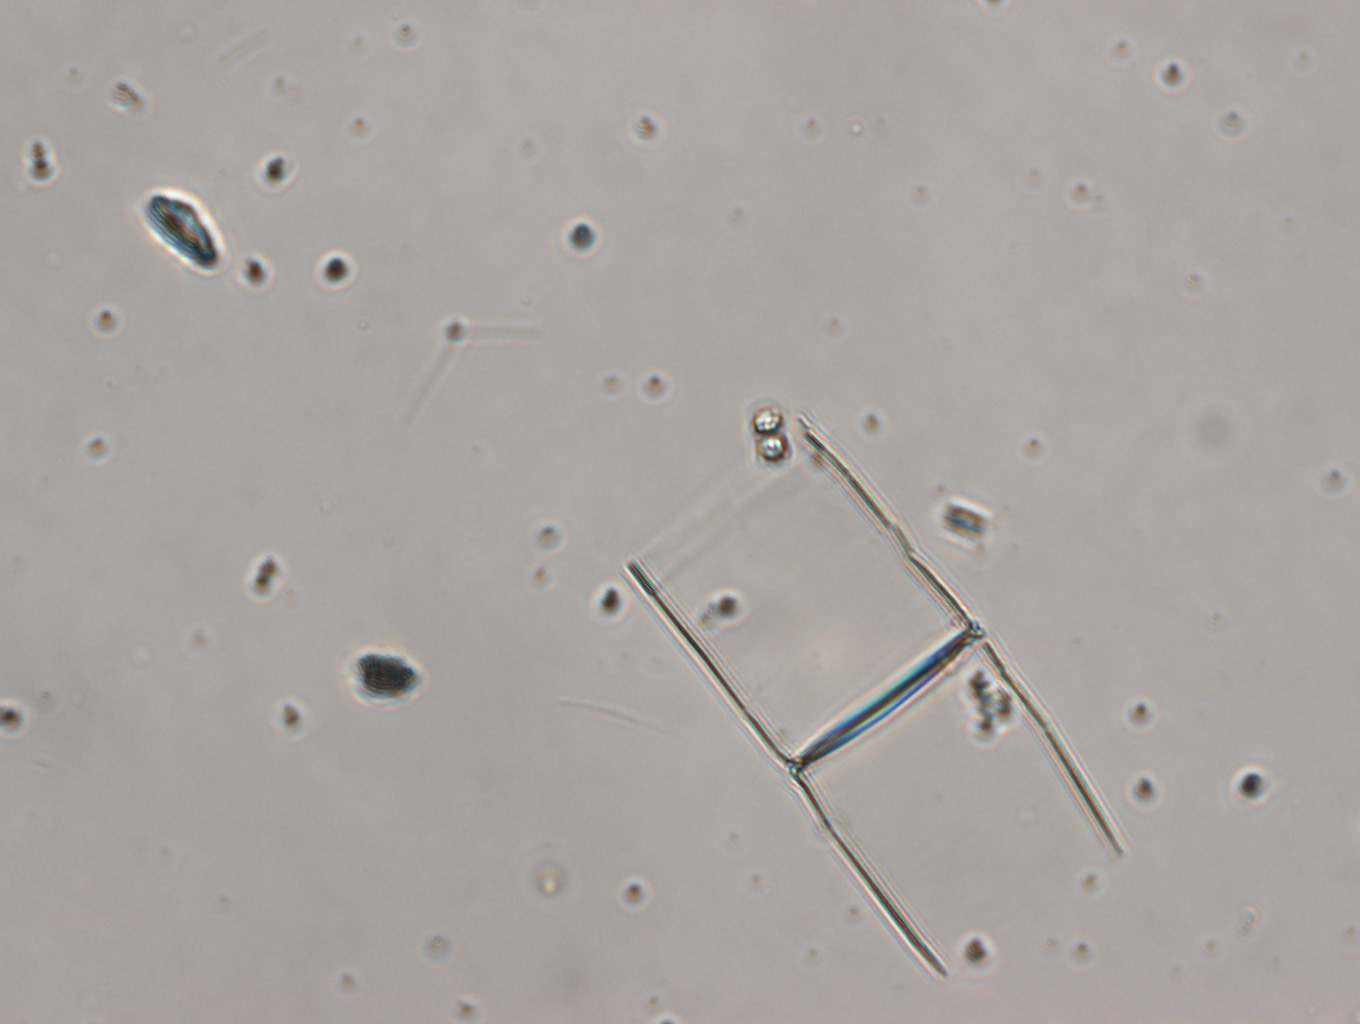guinardia flaccida: (621, 409, 1127, 976)
